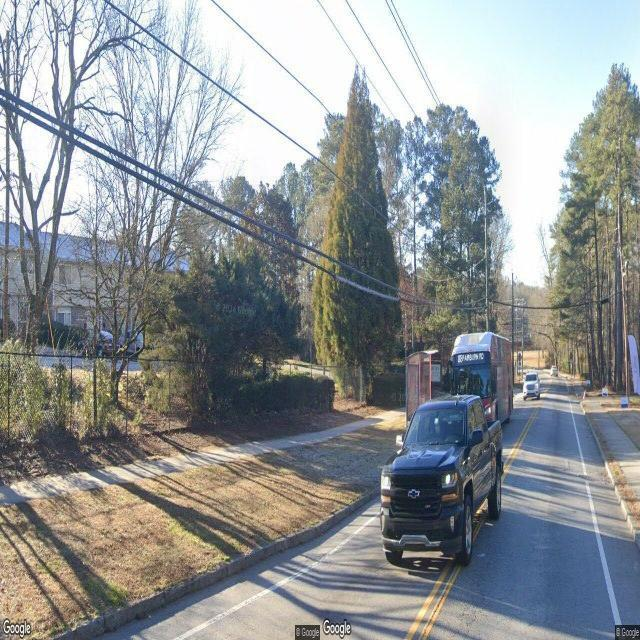shelter: (406, 348, 440, 429)
